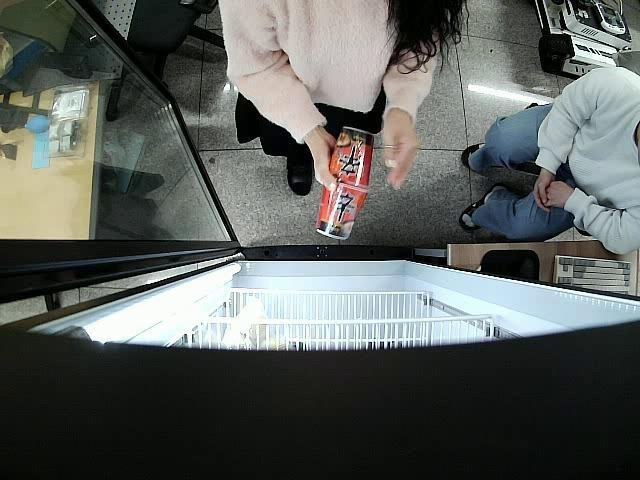02_shinRamen_S: (316, 177, 370, 244), (330, 122, 376, 185)
